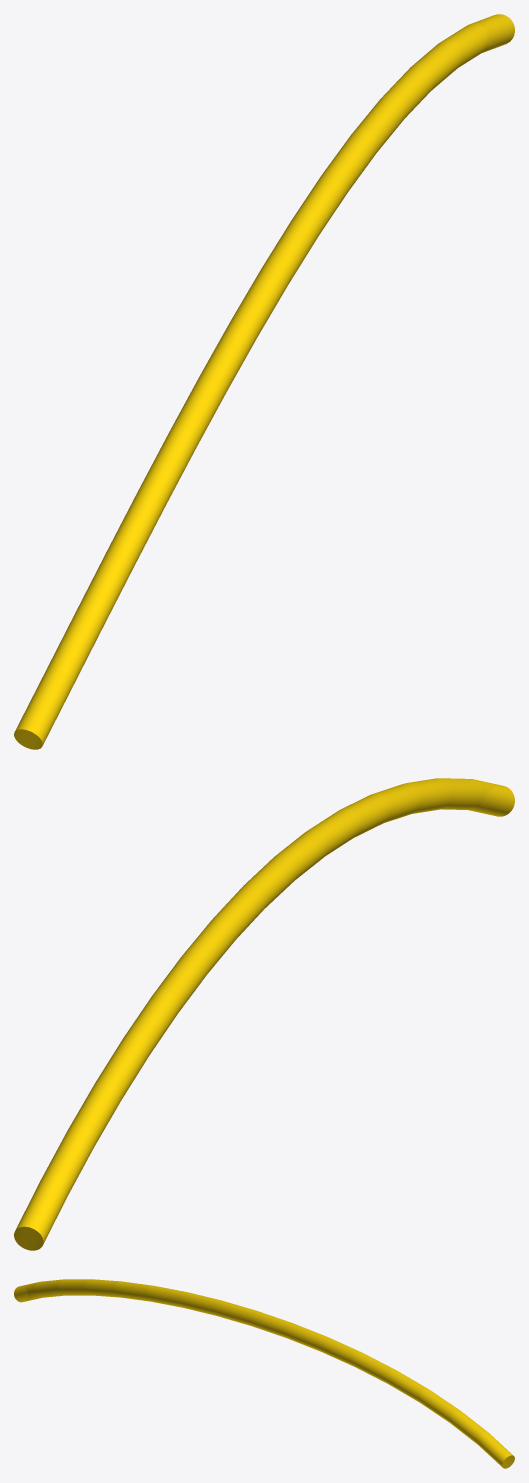
The model's file is Event_421115418_track_52.fbx.
The picture shows the model from 3 angles, top to bottom: view 1: azimuth 30°, elevation 25°; view 2: azimuth 210°, elevation 25°; view 3: azimuth 270°, elevation 25°; orthographic projection. The views are drawn at different scales.
Parts seen in each view (by area): view 1: Model; view 2: Model; view 3: Model.
Boxes of the visible parts, <box> form: Model: <box>14,14,514,749</box>; Model: <box>14,778,514,1250</box>; Model: <box>14,1279,514,1468</box>.
Size of the model in its own units: 1.41 by 0.3134 by 1.23.
